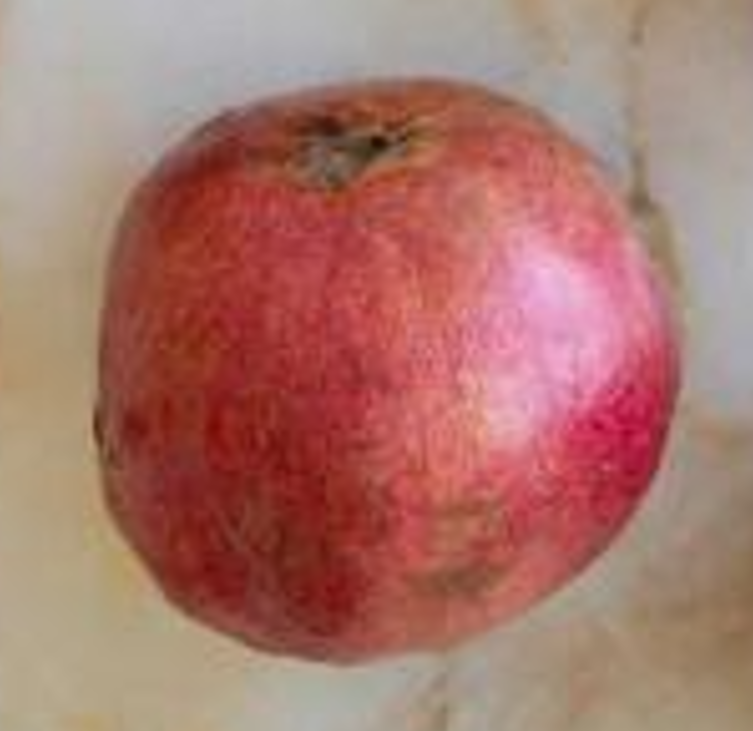pomegranate_A: (95, 82, 683, 668)
